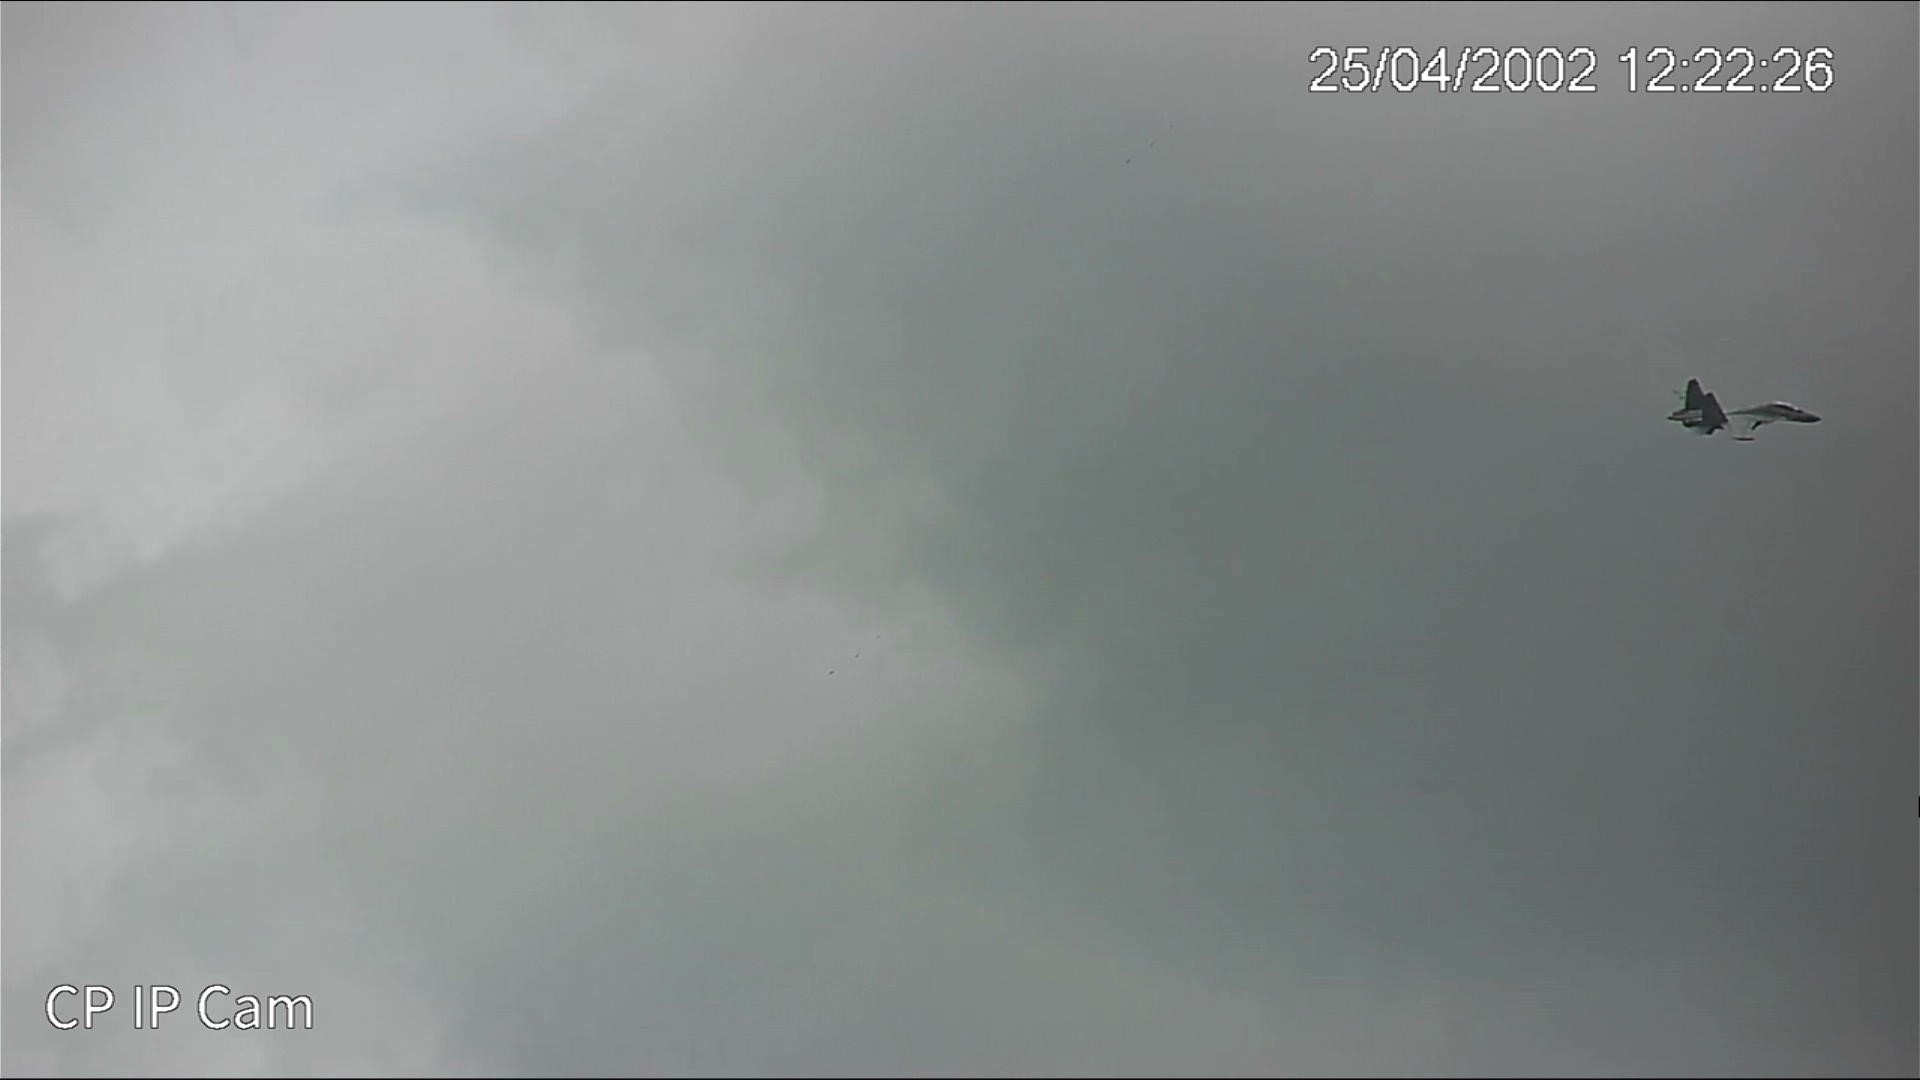SU_30: (1665, 375, 1832, 454)
